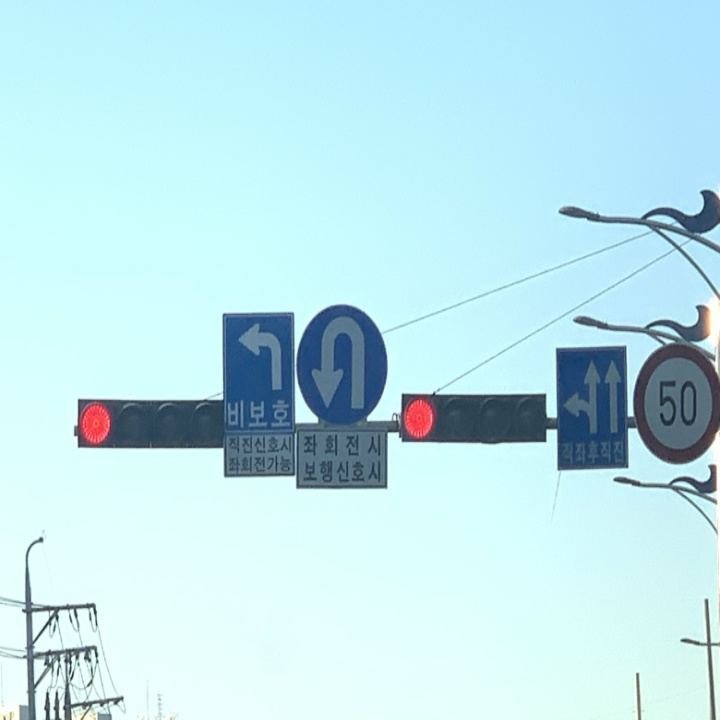left: (230, 317, 290, 398)
